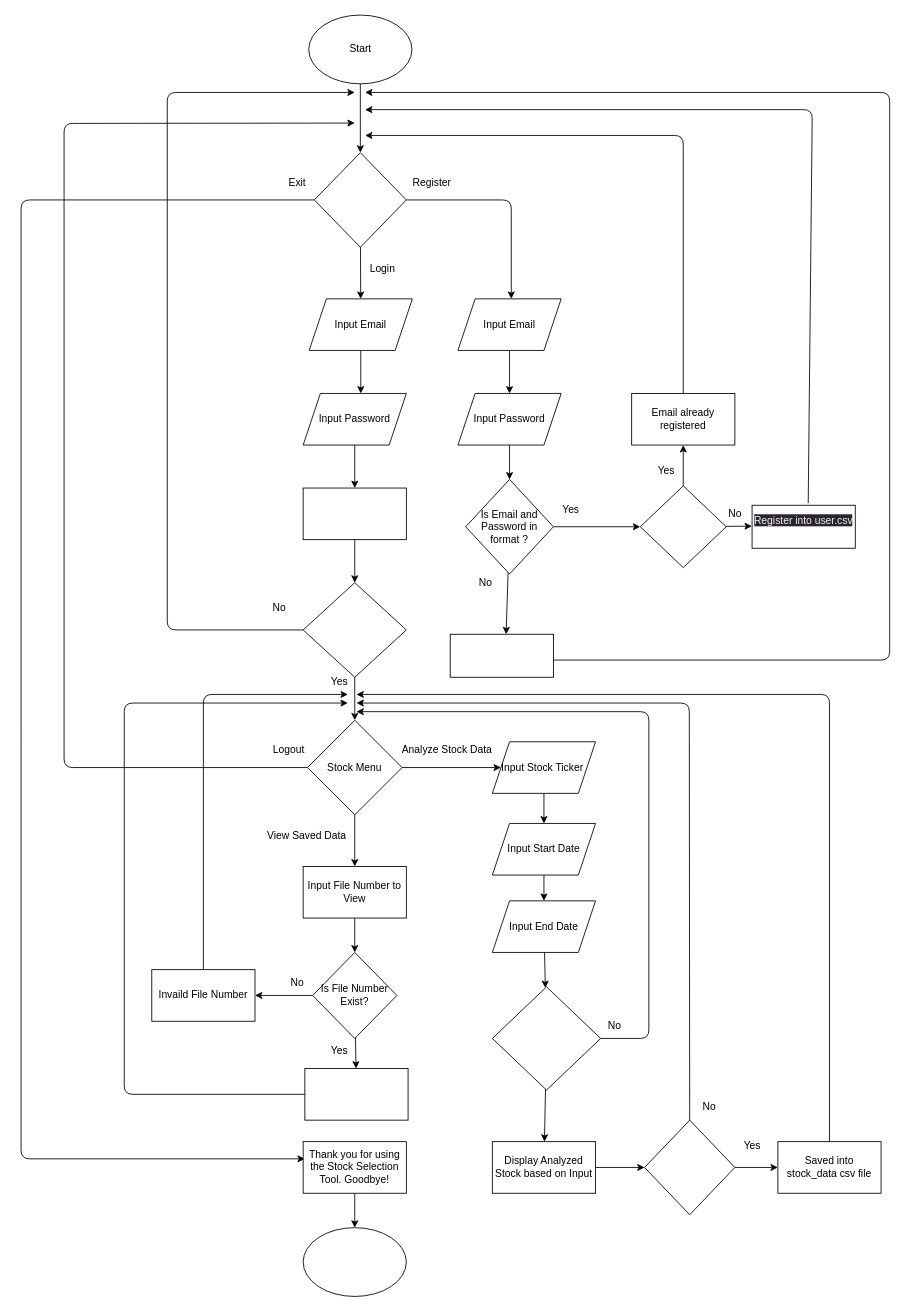
The diagram is 912 pixels wide and 1312 high, and some of its shapes have lost their labels. The shapes that lost their labels are listed below. From the top down, each one's centre as x and y in pixels, then its label:
the point at 359,199: Main Menu
the point at 354,513: Validate user.csv
the point at 682,526: Is Email Exist ?
the point at 354,629: Is Email and Password Correct ?
the point at 501,655: Invaild Email and Password
the point at 546,1038: Is Stock Ticker, Start Date, End Date Exist?
the point at 356,1094: Display Saved Data
the point at 689,1167: Save this analysis?
the point at 354,1261: End
